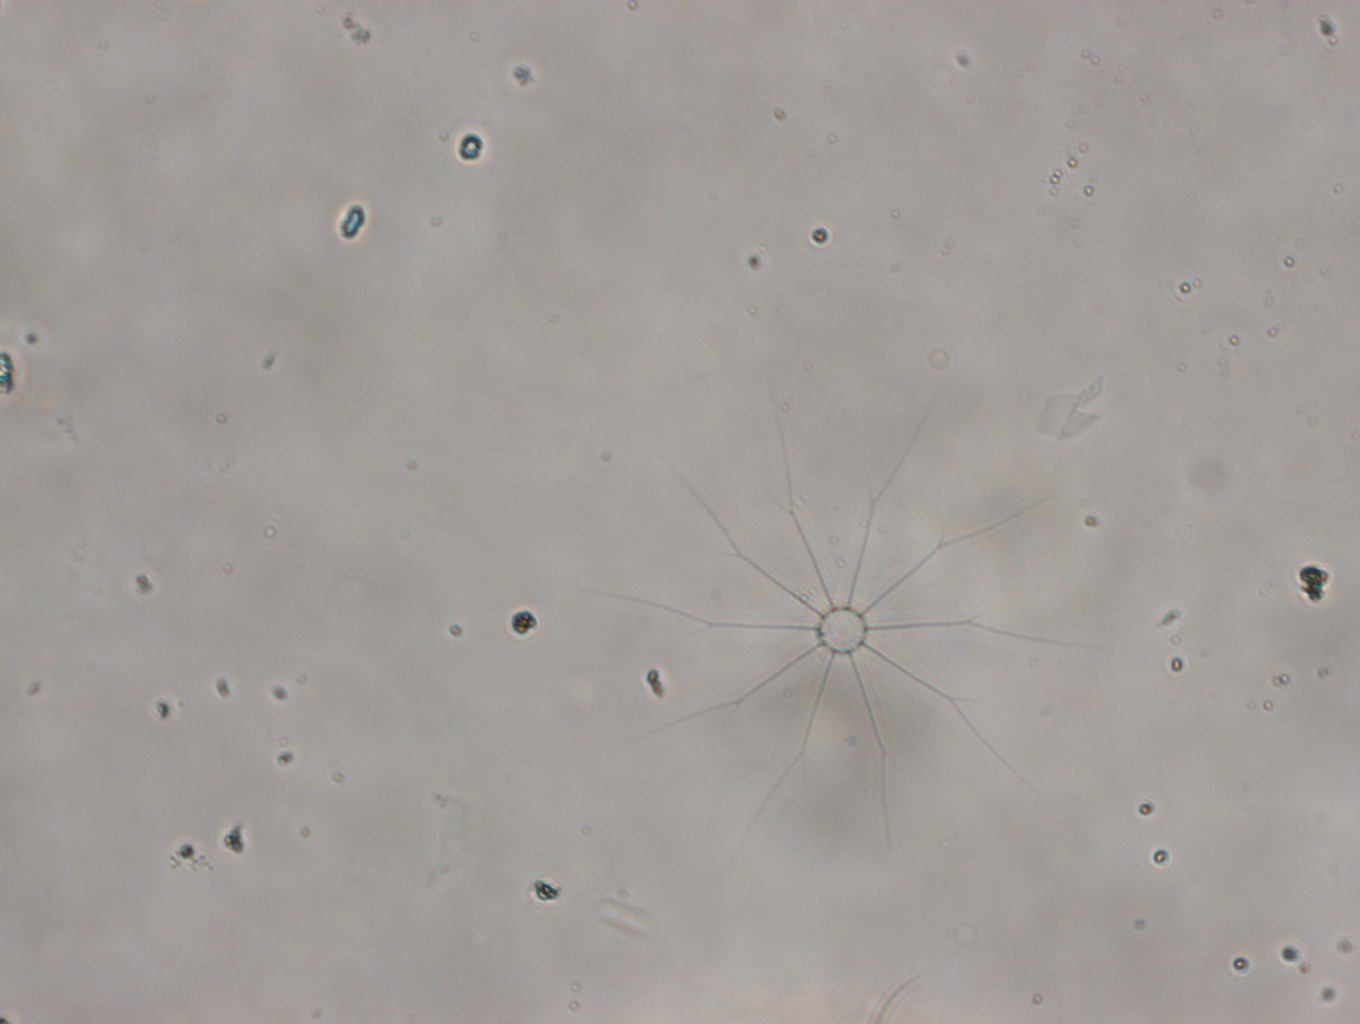bacteriastrum: (591, 386, 1089, 867)
